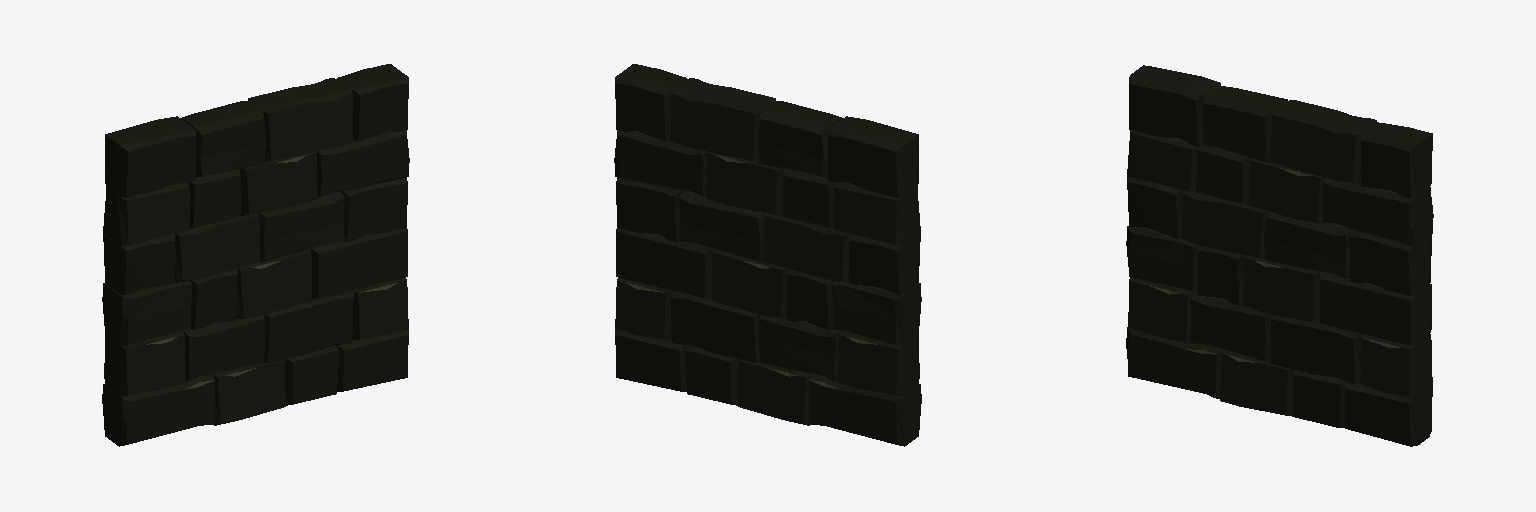
Rendered from Wall.obj.
3 renders of one model, left to right at view 1: azimuth 30°, elevation 25°; view 2: azimuth 150°, elevation 25°; view 3: azimuth 330°, elevation 25°, orthographic.
Parts seen in each view (by area): view 1: Wall; view 2: Wall; view 3: Wall.
Boxes of the visible parts, x1,y1,x2,y2 form: Wall: [102, 64, 409, 446]; Wall: [614, 64, 921, 446]; Wall: [1126, 65, 1433, 446].
Size of the model in its own units: 2 by 2 by 0.2859.